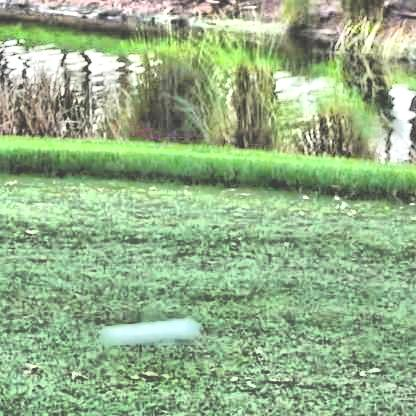golfball: (99, 313, 200, 346)
